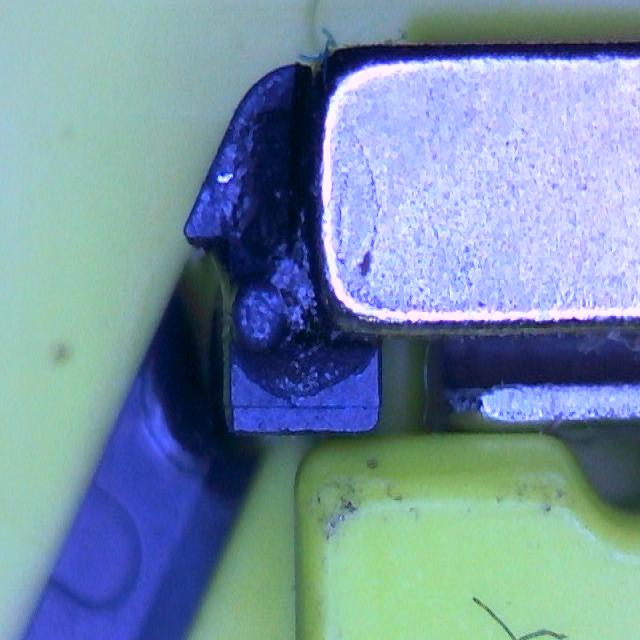over: (236, 110, 320, 318)
